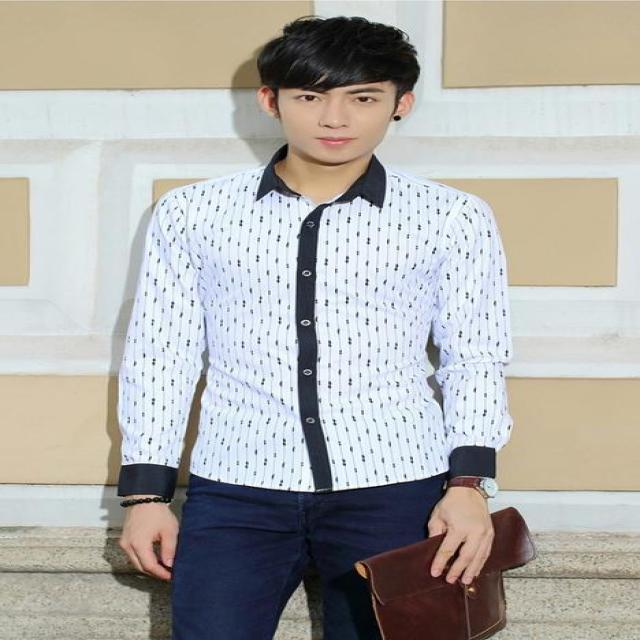long sleeve top: (119, 148, 510, 497)
trousers: (174, 452, 465, 639)
